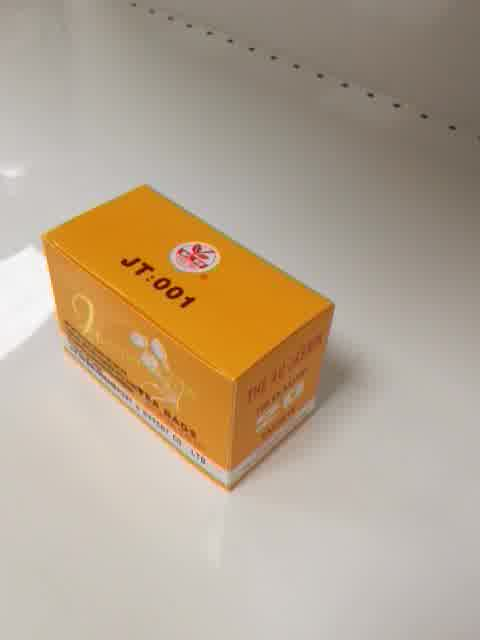jasminetea: (41, 183, 337, 492)
